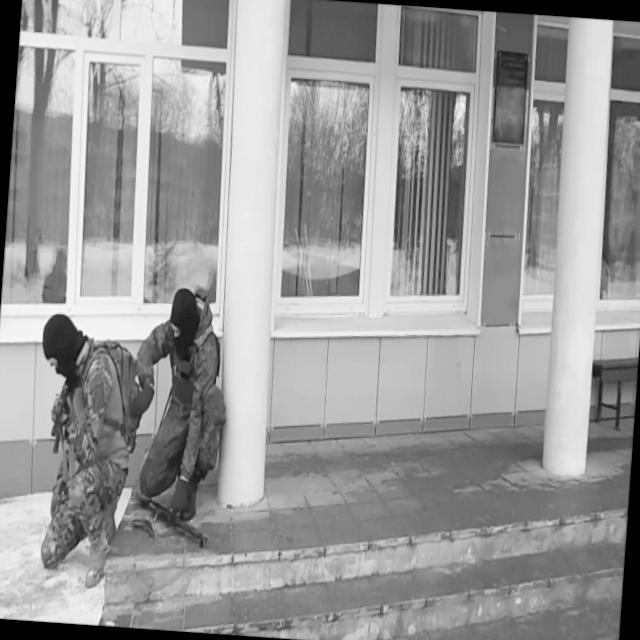gun: (128, 484, 213, 550), (48, 376, 78, 454), (130, 512, 156, 541)
person with a gun: (25, 310, 146, 591), (124, 282, 235, 550)
